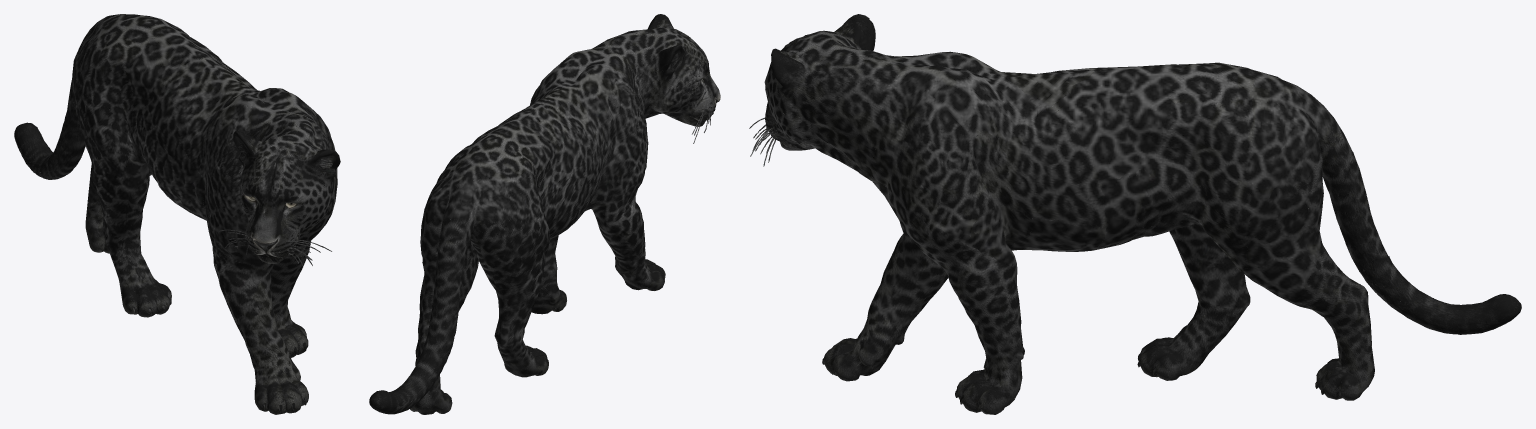
File: panther.glb
3 renders of one model, left to right at view 1: azimuth 30°, elevation 25°; view 2: azimuth 150°, elevation 25°; view 3: azimuth 270°, elevation 25°, orthographic. The views are drawn at different scales.
Visible parts, largest first — view 1: MeshyFit; view 2: MeshyFit; view 3: MeshyFit.
Part boxes in pixels (x1,y1,x2,y2): MeshyFit: (14, 14, 340, 414); MeshyFit: (369, 14, 720, 414); MeshyFit: (749, 14, 1521, 414).
Bounding box in the file's own units: 0.3934 × 0.7 × 1.47.
1 material, 1 textured.
